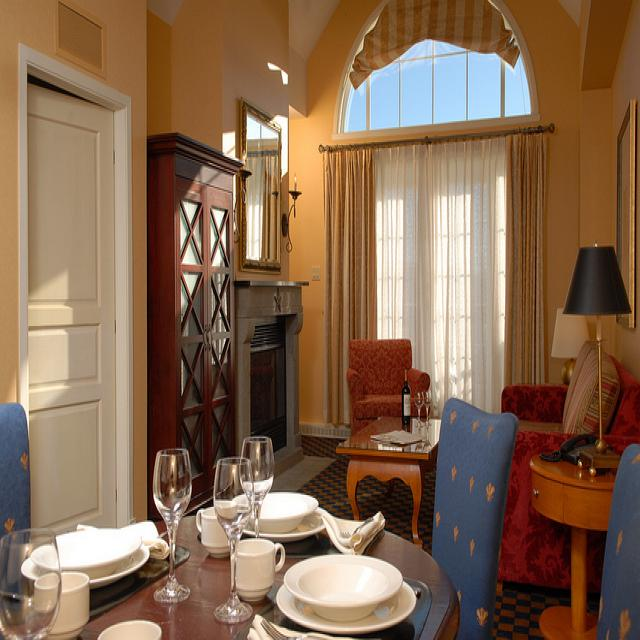chair: (497, 340, 640, 589), (431, 398, 517, 640), (539, 445, 640, 632), (346, 339, 429, 435), (1, 400, 34, 578)
dining table: (154, 519, 458, 640)
